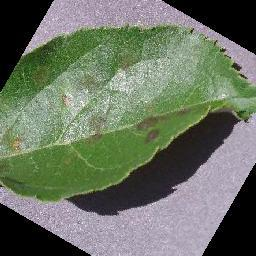apple healthy: (0, 21, 255, 204)
